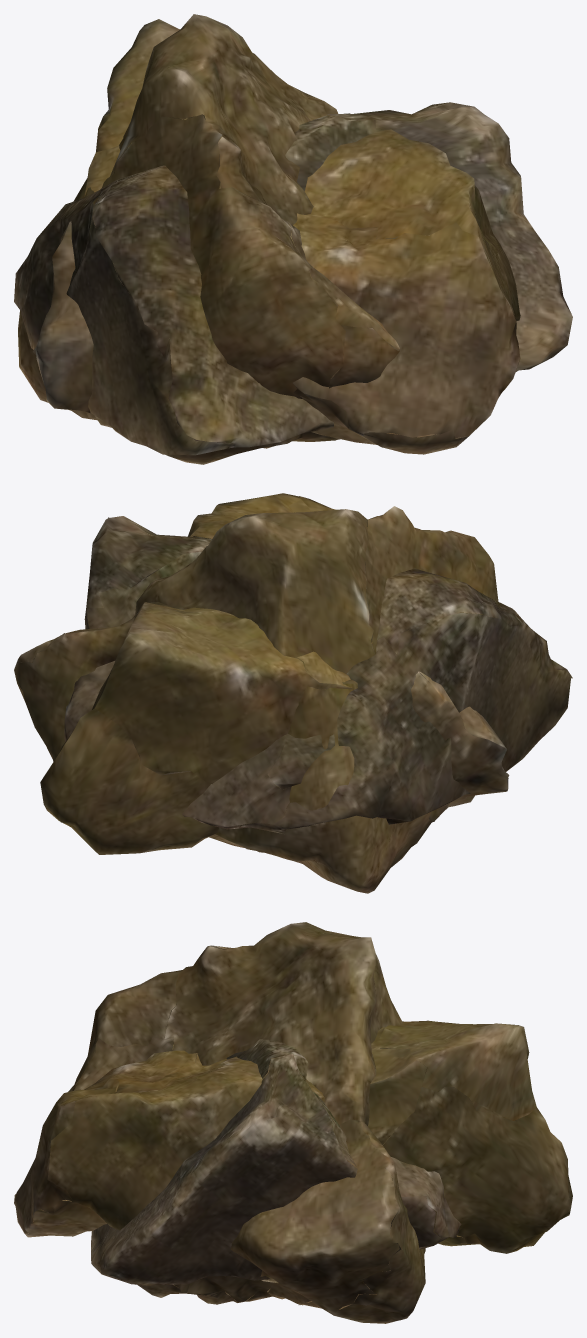
Rendered from boulder.glb.
The picture shows the model from 3 angles, top to bottom: view 1: azimuth 30°, elevation 25°; view 2: azimuth 150°, elevation 25°; view 3: azimuth 270°, elevation 25°; orthographic projection. The views are drawn at different scales.
Parts seen in each view (by area): view 1: rock_moss_set_01_rock06, rock_moss_set_01_rock03, rock_moss_set_01_rock04; view 2: rock_moss_set_01_rock03, rock_moss_set_01_rock04, rock_moss_set_01_rock06; view 3: rock_moss_set_01_rock06, rock_moss_set_01_rock04, rock_moss_set_01_rock03.
Part boxes in pixels (x1,y1,x2,y2): rock_moss_set_01_rock06: (35,19,520,454); rock_moss_set_01_rock03: (14,102,572,455); rock_moss_set_01_rock04: (18,14,400,464); rock_moss_set_01_rock03: (64,516,572,833); rock_moss_set_01_rock04: (14,506,498,893); rock_moss_set_01_rock06: (40,493,509,854); rock_moss_set_01_rock06: (14,1020,572,1283); rock_moss_set_01_rock04: (72,922,425,1323); rock_moss_set_01_rock03: (68,1014,461,1285).
Bounding box in the file's own units: 2.38 × 1.77 × 2.76.
1 material, 1 textured.
